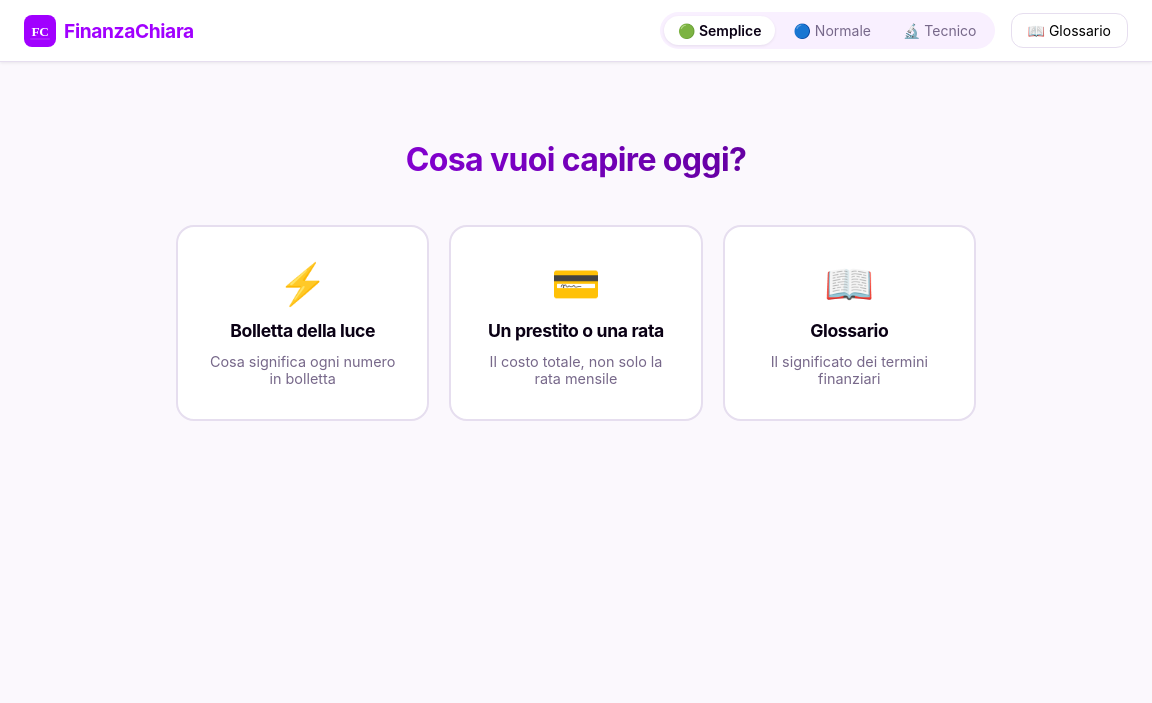
it: Flusso utente completo › il LevelSelector cambia il testo delle spiegazioni
Click the heading "Bolletta della luce" at (303, 331), box [230,320,375,341]
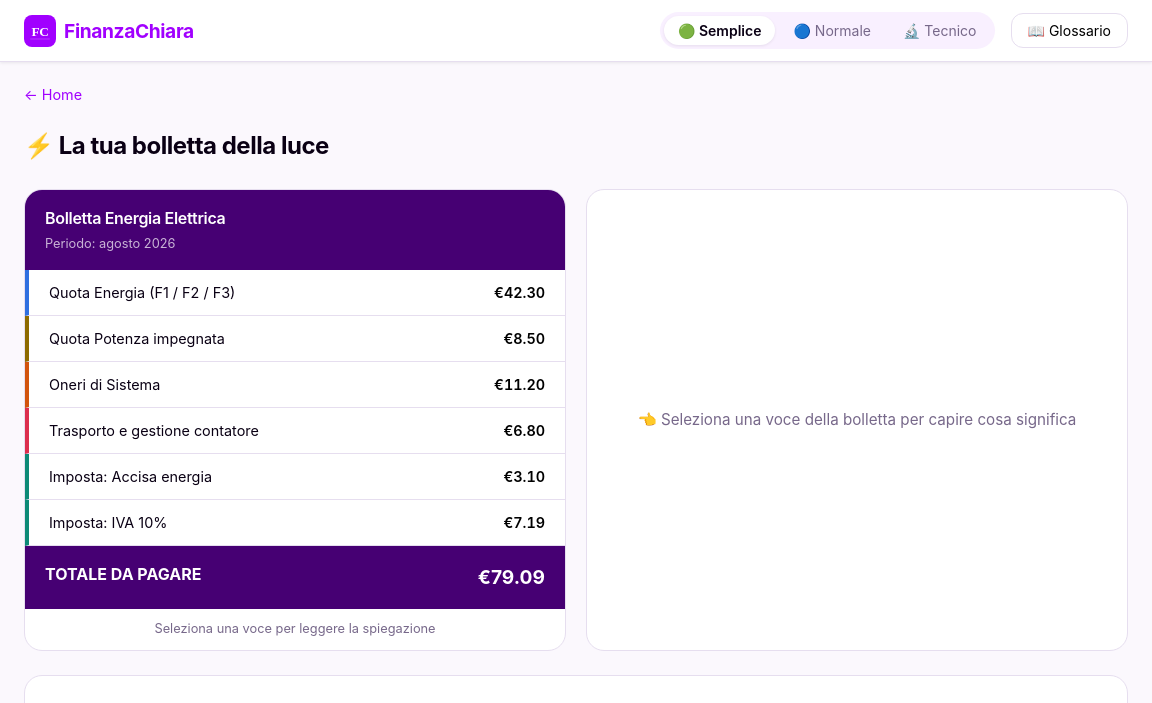
Click the text "Oneri di Sistema" at (105, 385), box [49,376,160,394]
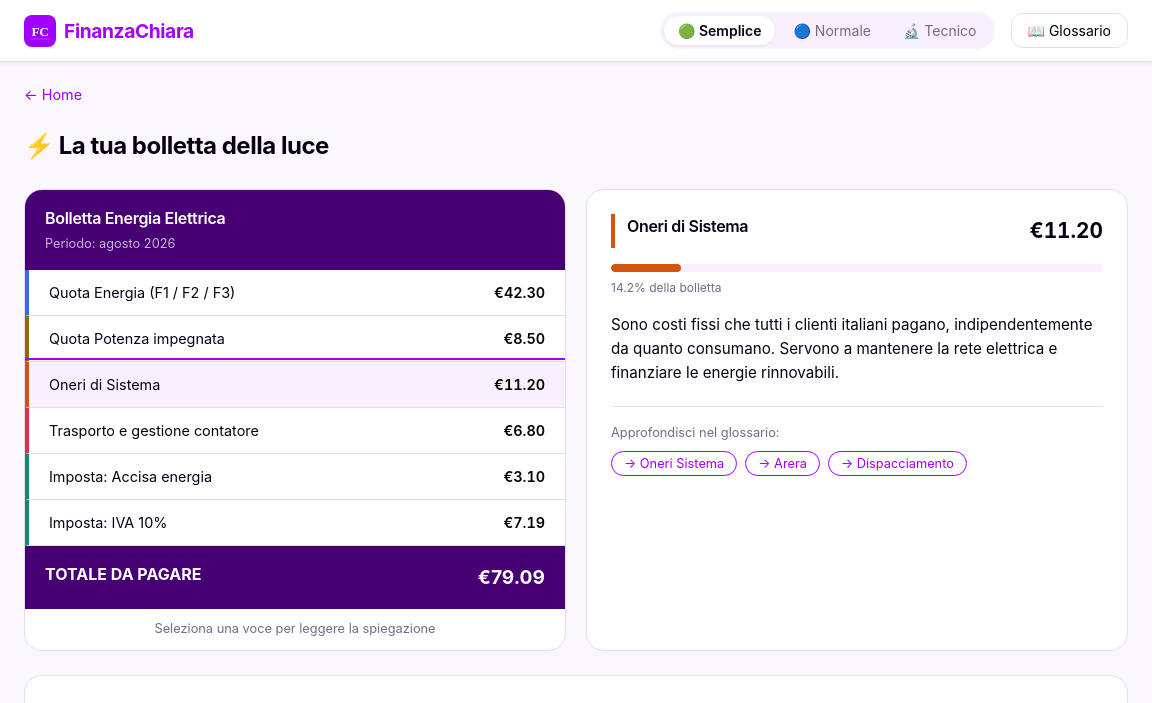
Click the button "🔬 Tecnico" at (940, 30), box [889,16,990,45]
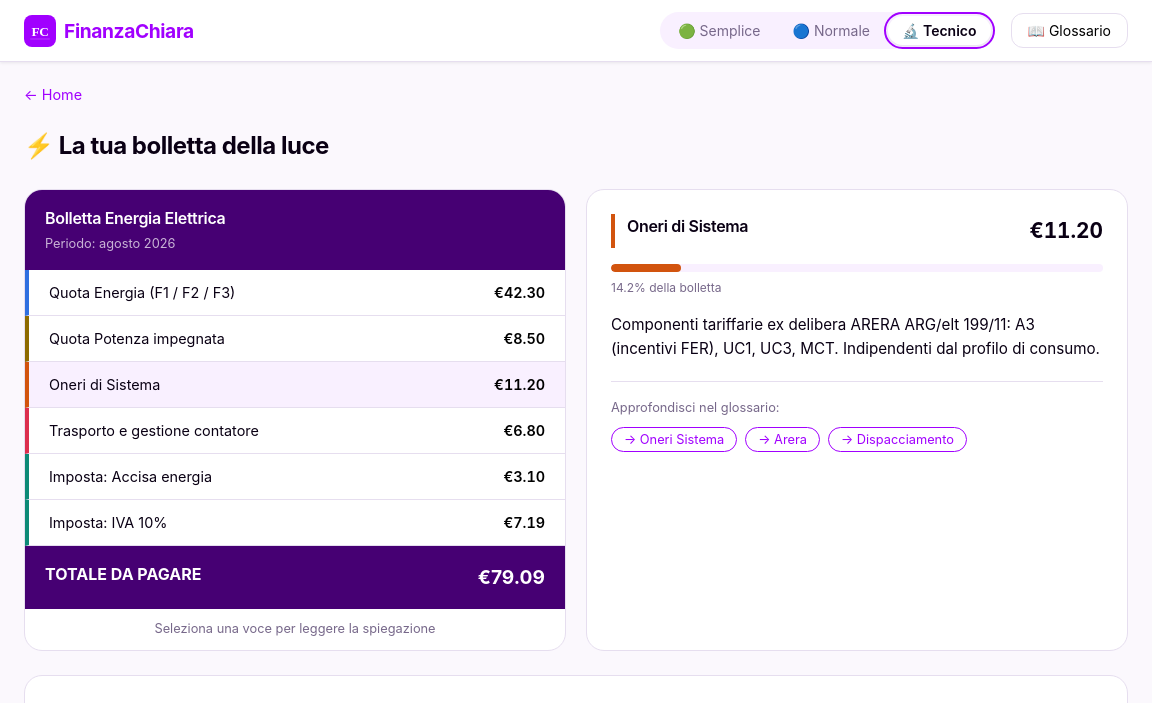
Expected: the text "delibera ARERA ARG/elt 199/11" is shown, [611,315,1100,358]
